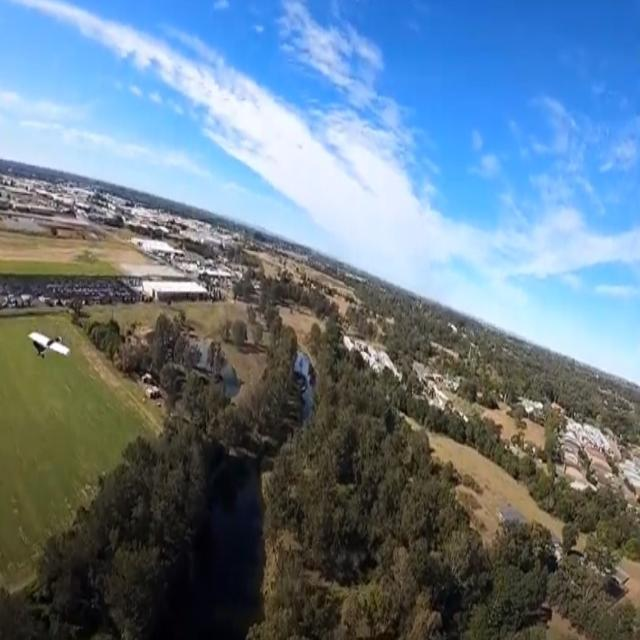iha: (27, 327, 72, 360)
